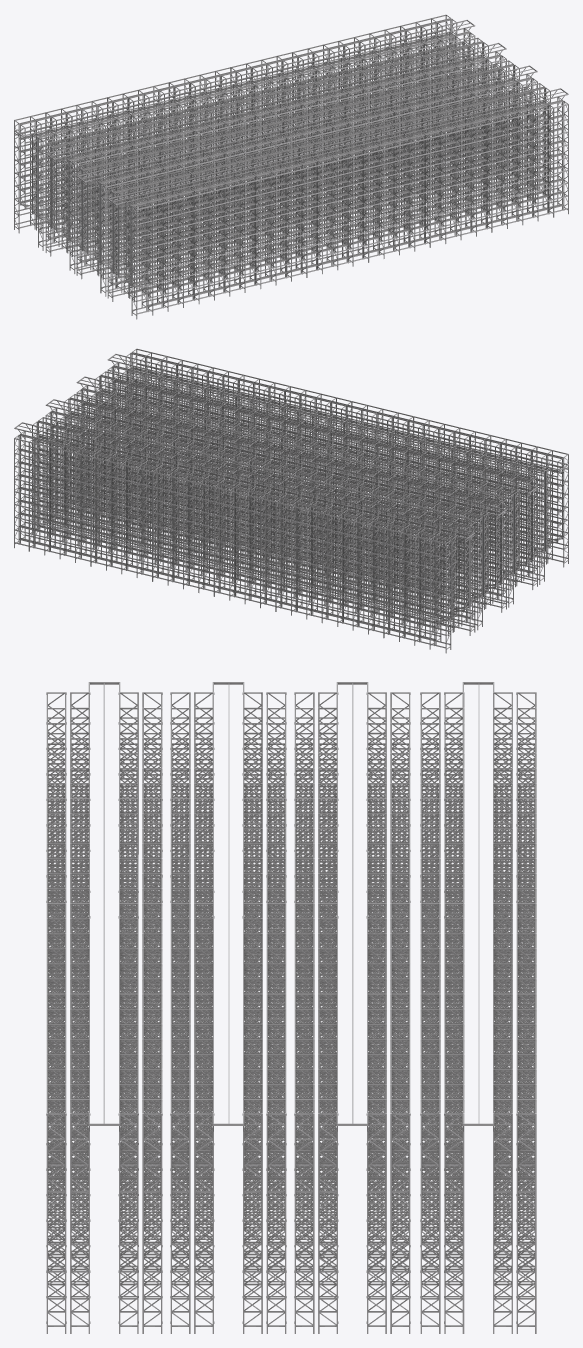
Rendered from SND_duiduoji_liku2.glb.
3 renders of one model, top to bottom at view 1: azimuth 30°, elevation 25°; view 2: azimuth 150°, elevation 25°; view 3: azimuth 270°, elevation 25°, orthographic. The views are drawn at different scales.
Bounding box in the file's own units: 61015 × 14152 × 28599.
Materials: 1 (1 with a texture image).
